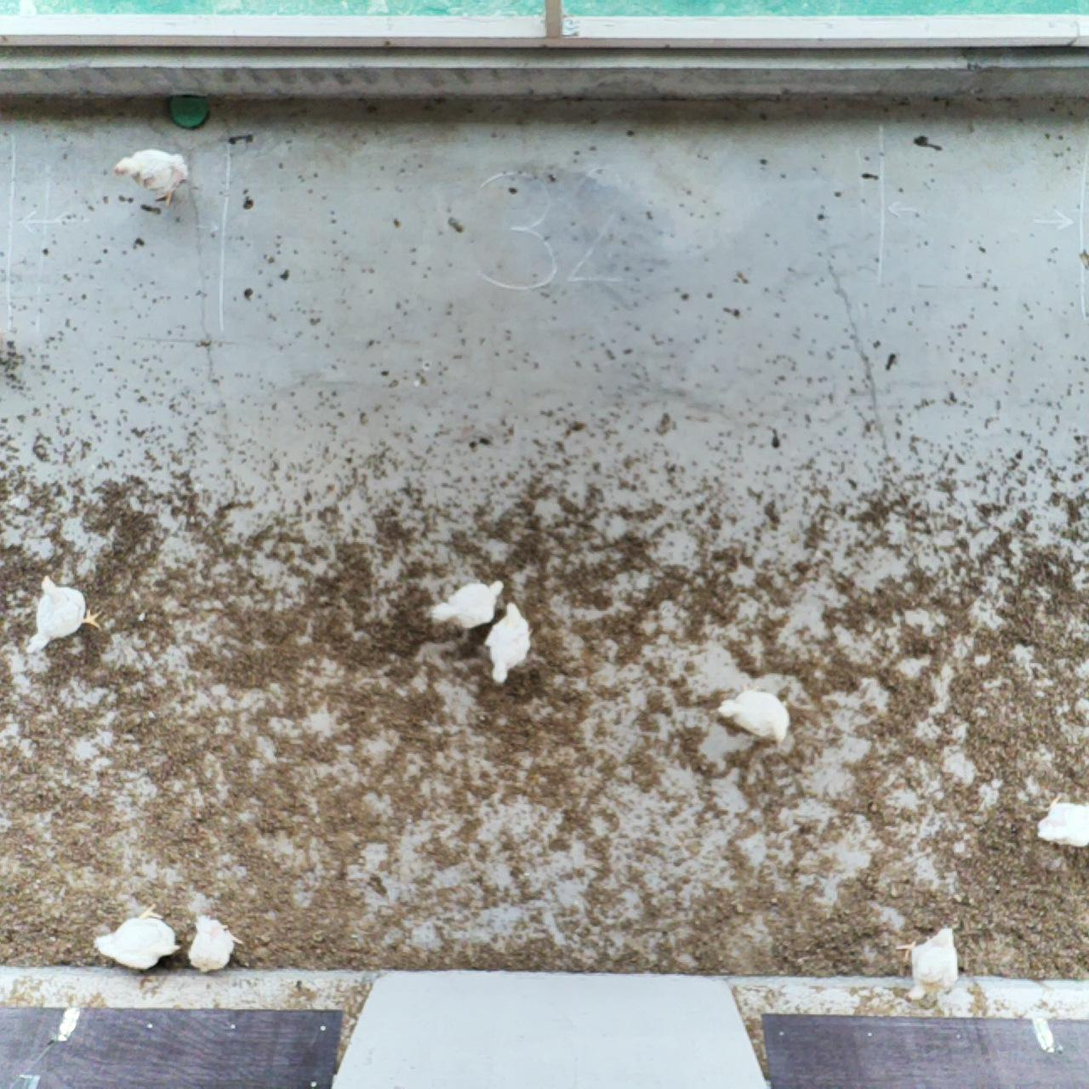chicken: (18, 568, 109, 658), (90, 899, 183, 974), (893, 922, 963, 1005), (714, 684, 794, 750), (110, 143, 190, 207), (479, 599, 533, 690), (427, 572, 504, 633), (186, 910, 249, 976), (1031, 786, 1089, 850)
